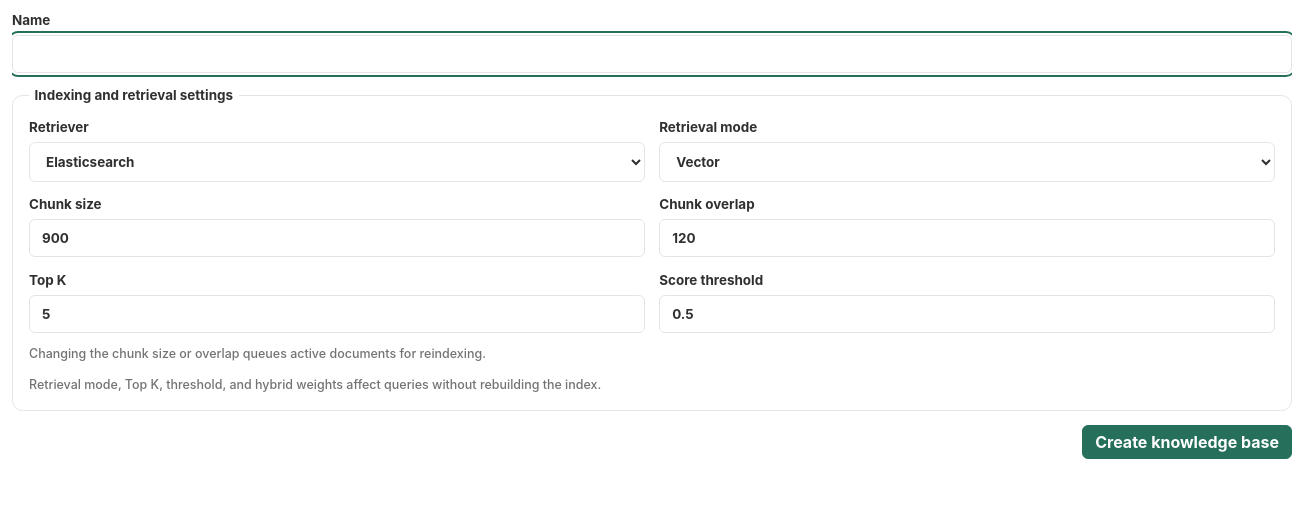
Test: KnowledgeCollectionForm › keeps the draft and localizes a resource name conflict
The image size is (1304, 506).
Type "My references" into the field labelled "Name" at (652, 54), box [12,35,1292,73]
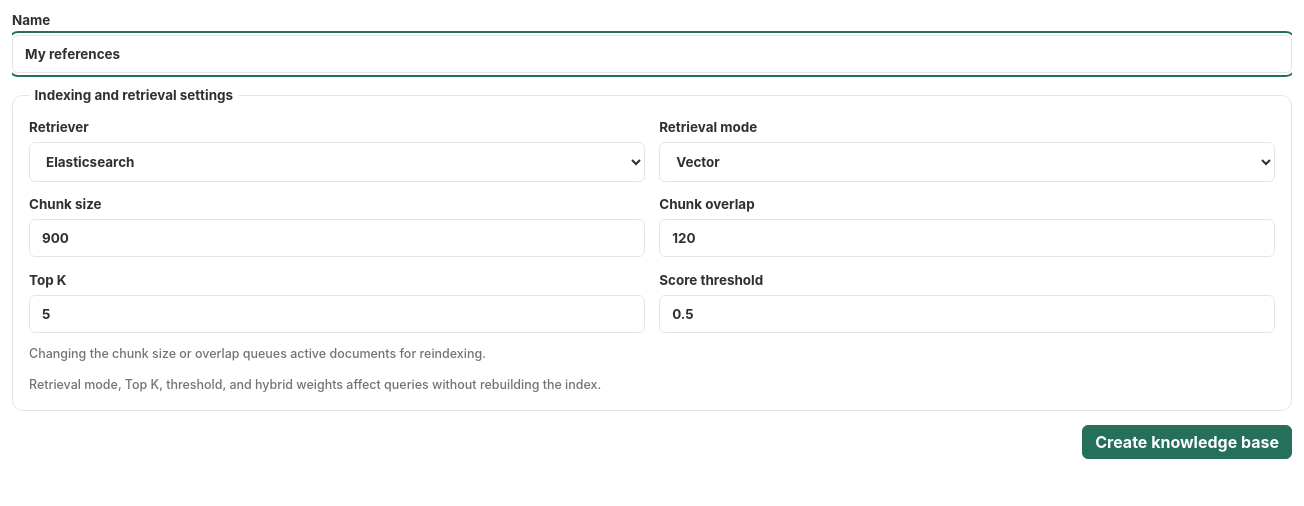
Click the button "Create knowledge base" at (1187, 442), box [1082,425,1292,459]
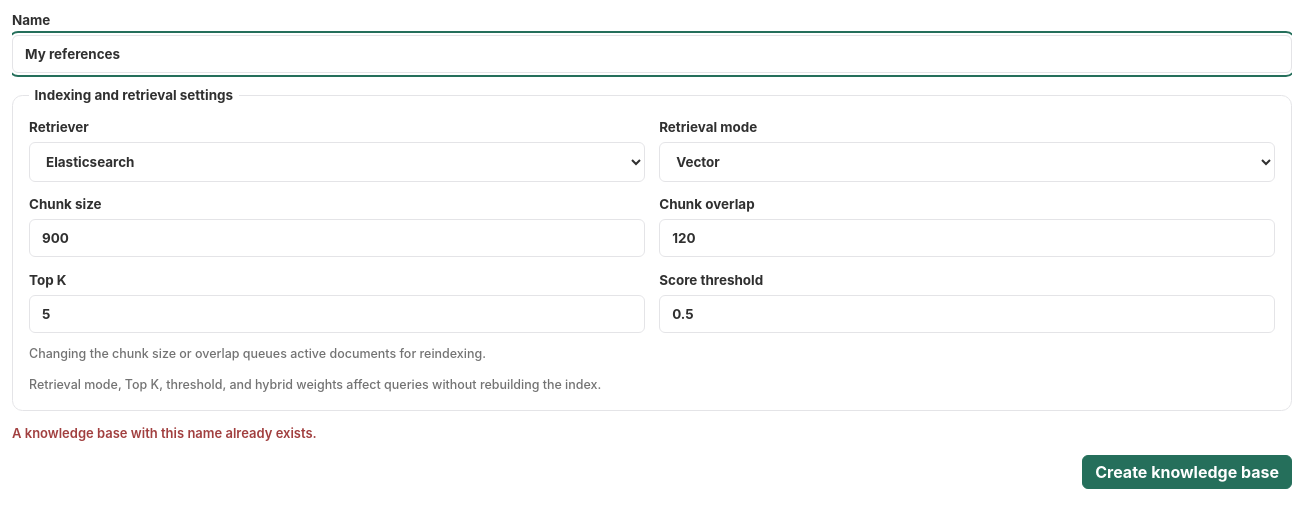
Check: the message shows "already exists", box [12,425,317,441]
